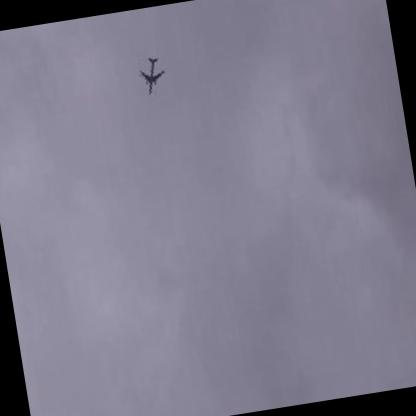plane: (132, 50, 172, 101)
